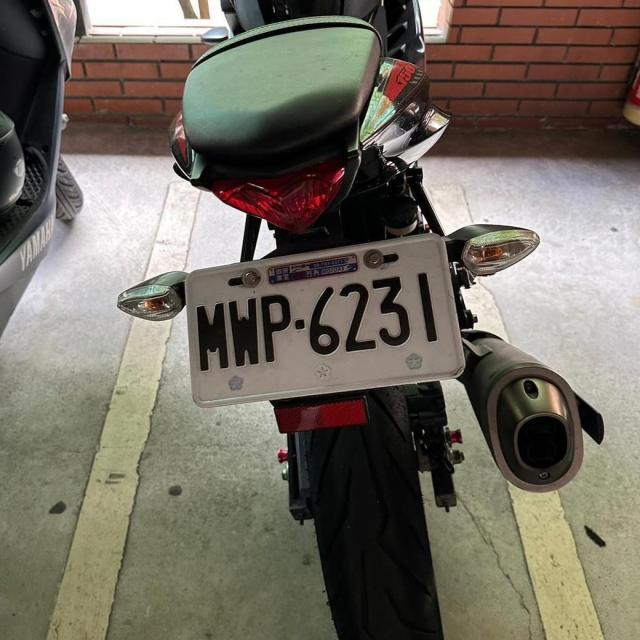W: (173, 231, 461, 407)
